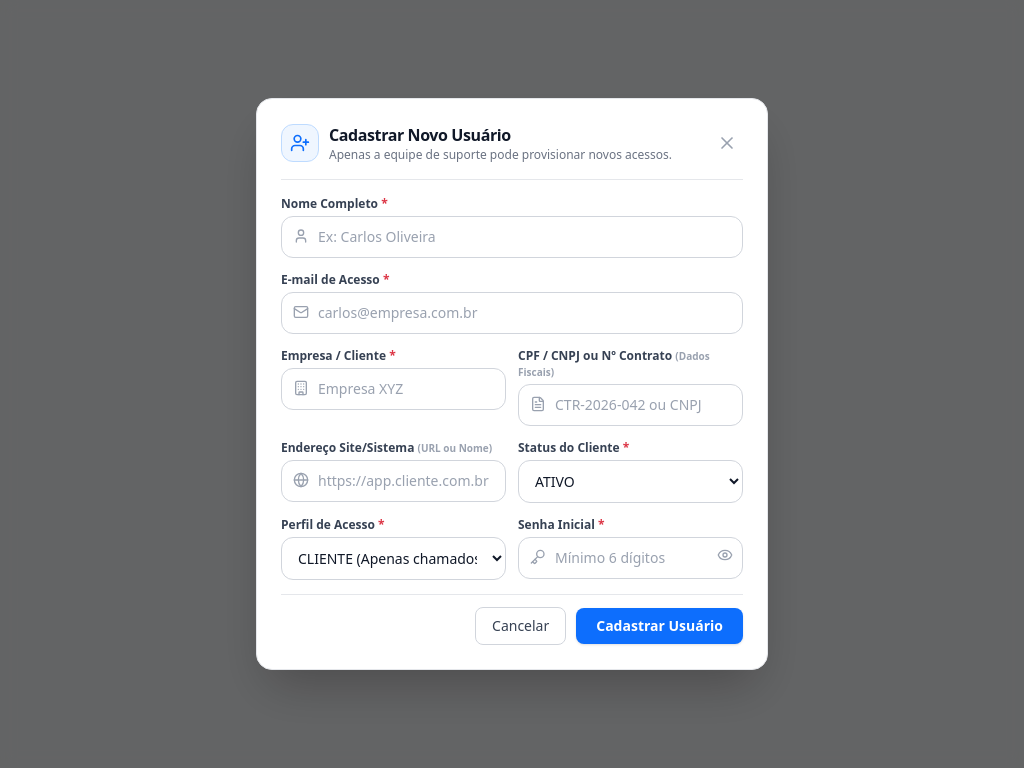
Test case: components/suporte/CreateUserModal › should display error message when submission fails
Type "User" into the field with placeholder "Ex: Carlos Oliveira". click: (512, 237)
box: [281,216,743,258]
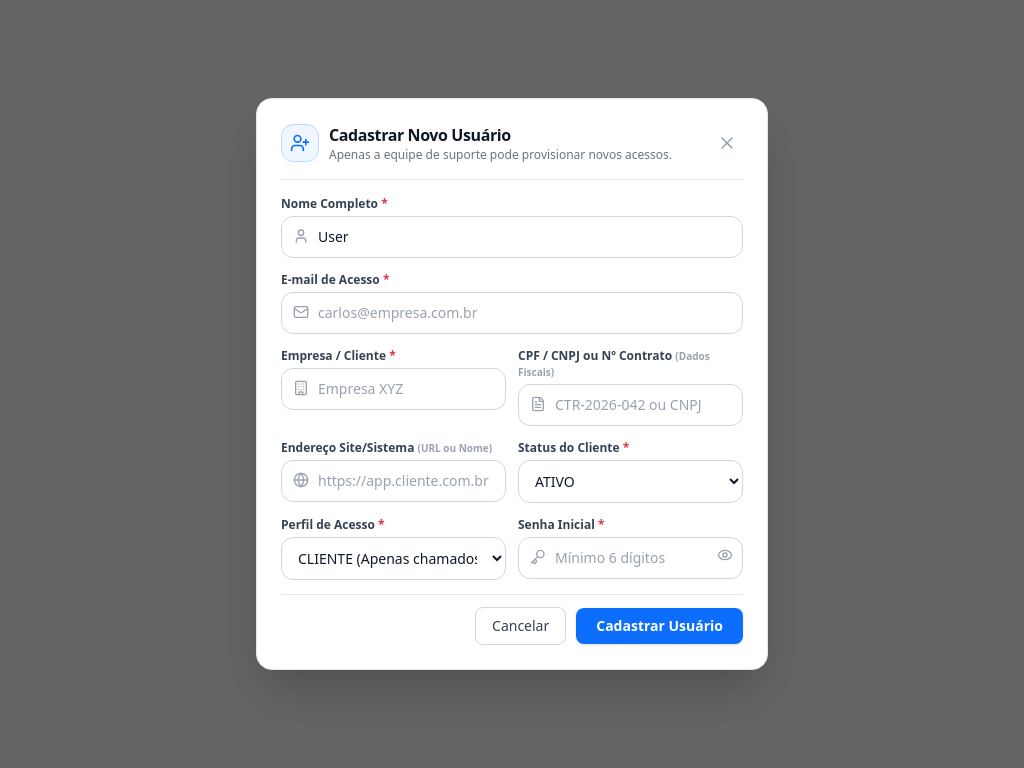
Type "dup@empresa.com" into the field with placeholder "carlos@empresa.com.br". click: (512, 313)
box: [281,292,743,334]
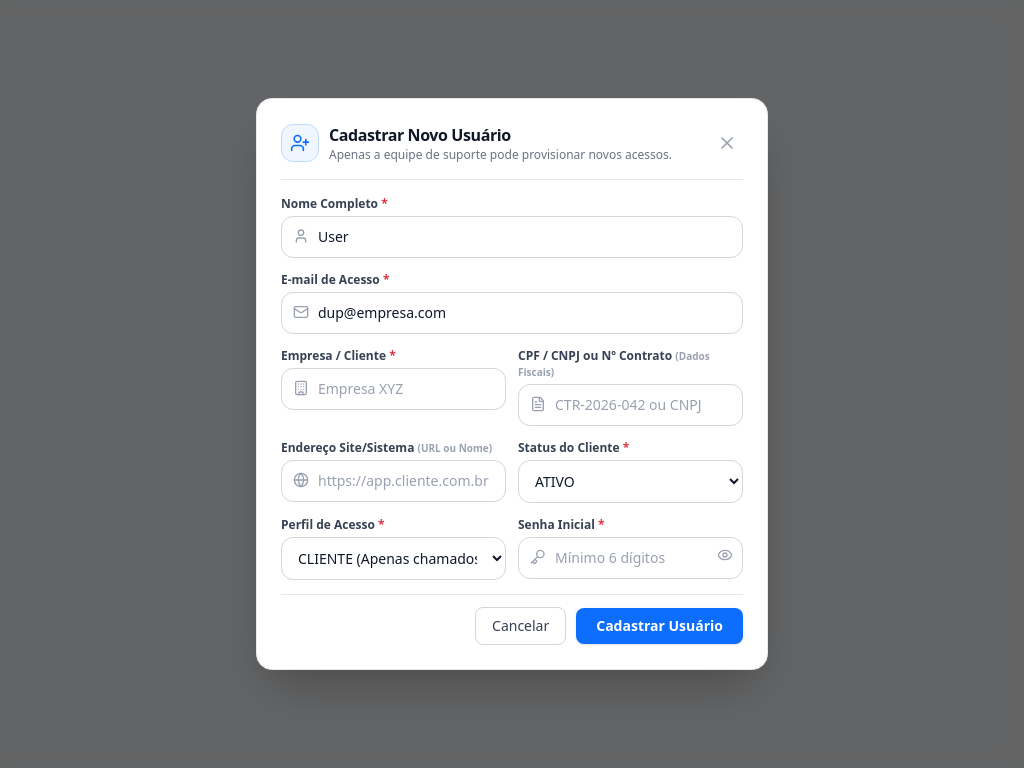
Type "Empresa" into the field with placeholder "Empresa XYZ". click: (394, 389)
box: [281,368,506,410]
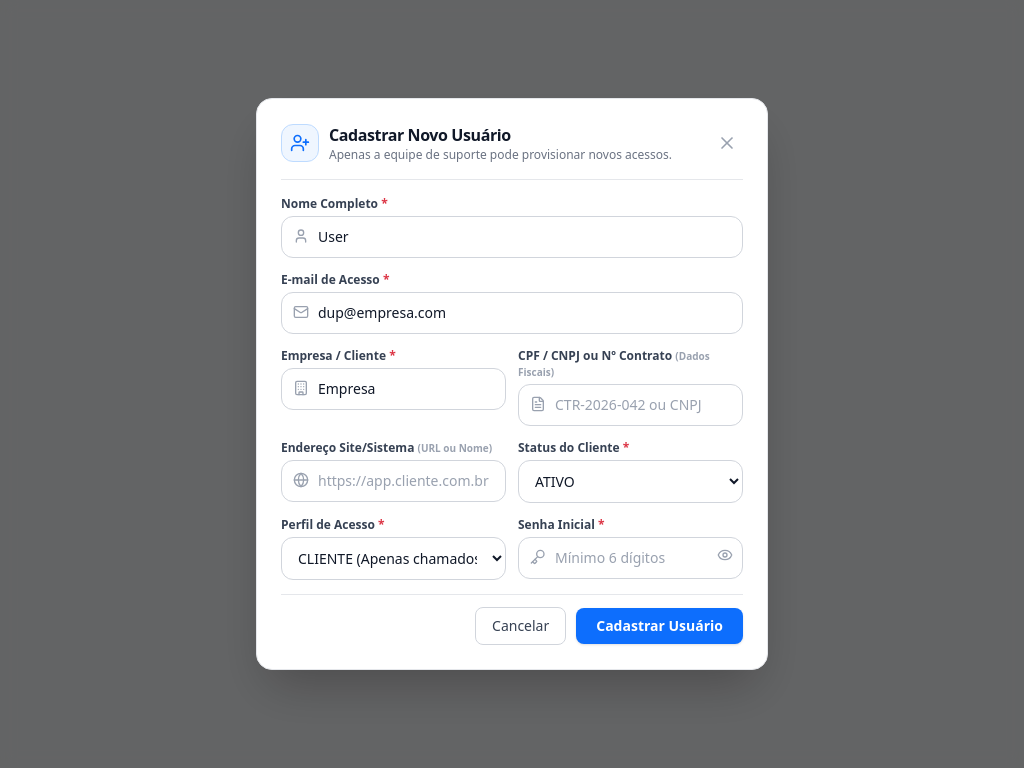
Type "123456" into the password field with placeholder "Mínimo 6 dígitos". click: (630, 558)
box: [518,537,743,579]
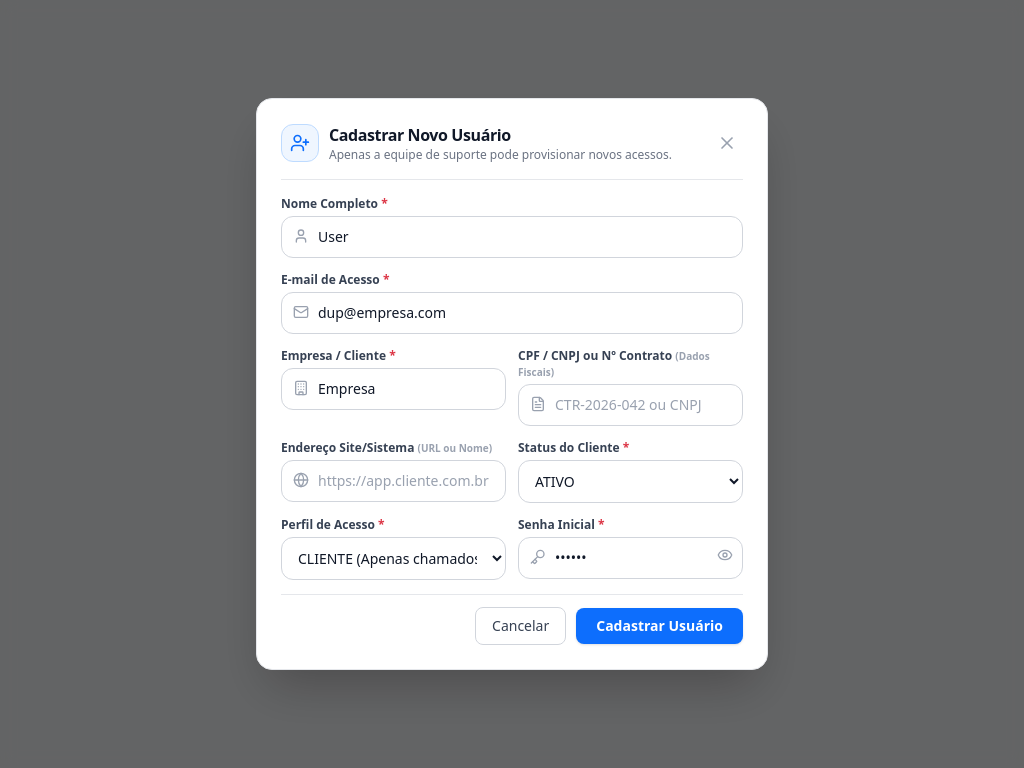
Click the button "Cadastrar Usuário". click: (660, 626)
box: [576,608,743,644]
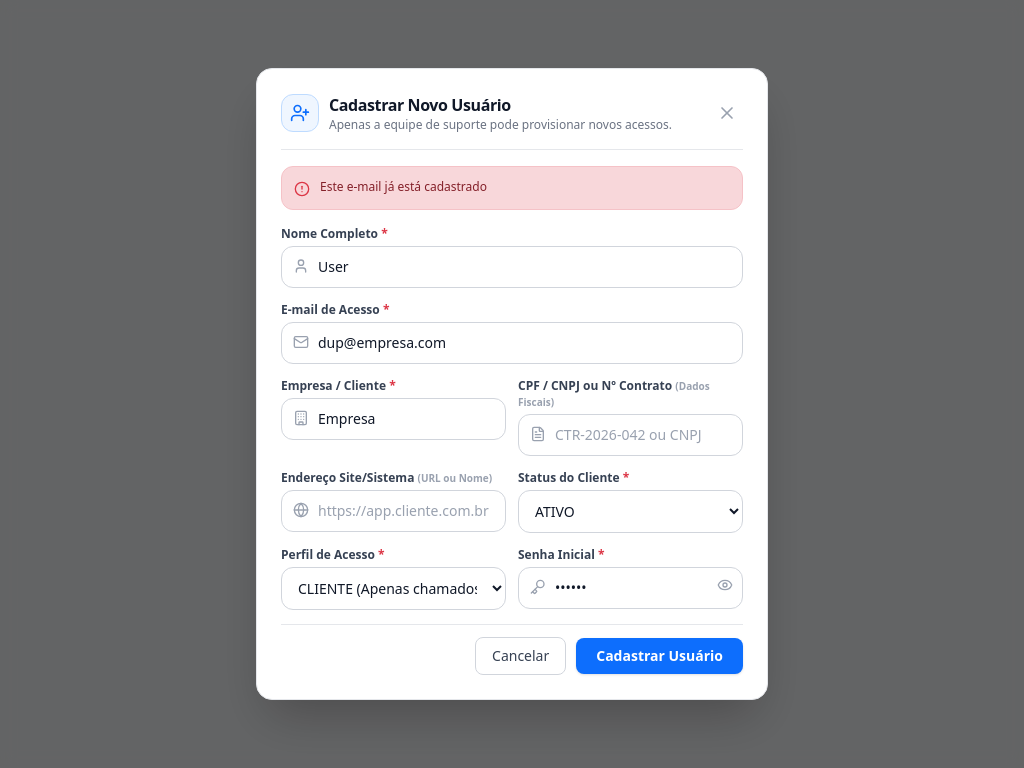
Expected: the text "Este e-mail já está cadastrado" is shown, [320,179,487,195]
